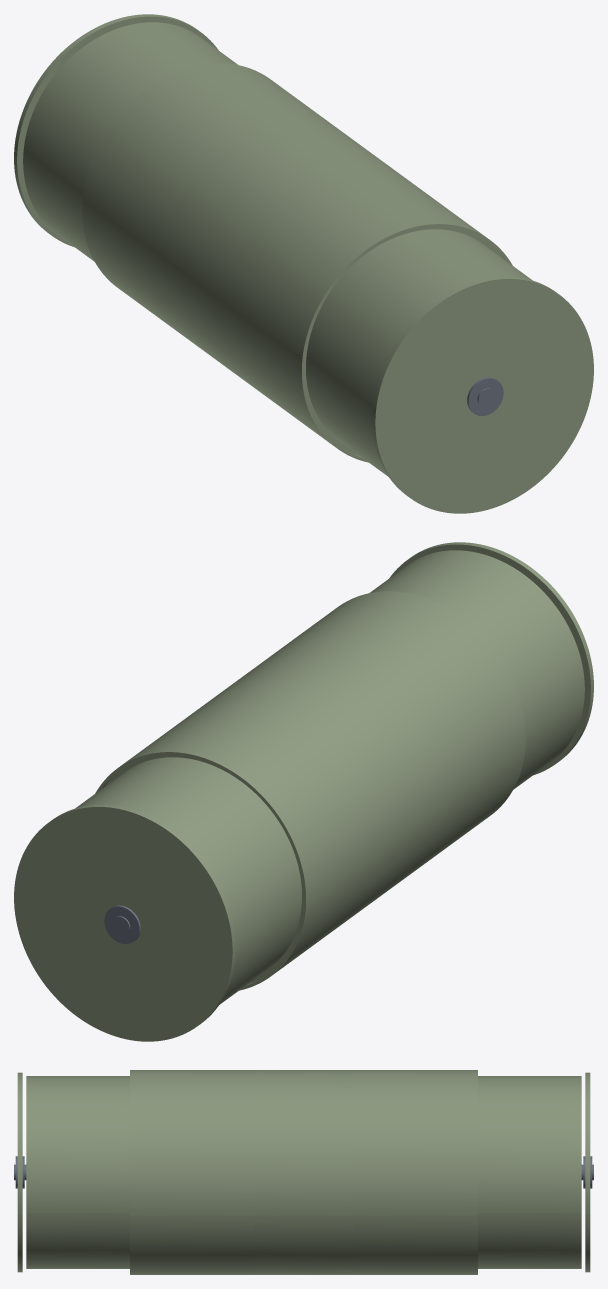
The model's file is tube-r150-n6-air6-wound-g0p5-6br-hub50.glb.
3 views of the same model, one above another, from view 1: azimuth 30°, elevation 25°; view 2: azimuth 150°, elevation 25°; view 3: azimuth 270°, elevation 25° (orthographic). The views are drawn at different scales.
Parts seen in each view (by area): view 1: bearings / B_spider_end - frame bearing hub [G10 bearing spi, side-B / B_stator_cage - insulating stator cage [G10 stator , side-A / A_stator_cage - insulating stator cage [G10 stator , rel-B / B_bridge_ring - bridge ring (counter-rotor), bridges, hub / hub_stator_cage - cage across the hub: A and B stator , rel-A / A_bridge_ring - bridge ring (counter-rotor), bridges, bearings / A_spider_end - frame bearing hub [G10 bearing spi, bearings / B_spider_Ca-reluctance - bearing hub, tied into t, bearings / B_bearing_end - bearing, end [6205-class deep-gro; view 2: bearings / A_spider_end - frame bearing hub [G10 bearing spi, side-A / A_stator_cage - insulating stator cage [G10 stator , side-B / B_stator_cage - insulating stator cage [G10 stator , rel-A / A_bridge_ring - bridge ring (counter-rotor), bridges, hub / hub_stator_cage - cage across the hub: A and B stator , rel-B / B_bridge_ring - bridge ring (counter-rotor), bridges, bearings / B_spider_end - frame bearing hub [G10 bearing spi, bearings / A_spider_Ca-reluctance - bearing hub, tied into t, bearings / A_bearing_end - bearing, end [6205-class deep-gro; view 3: side-A / A_stator_cage - insulating stator cage [G10 stator , side-B / B_stator_cage - insulating stator cage [G10 stator , hub / hub_stator_cage - cage across the hub: A and B stator , rel-A / A_bridge_ring - bridge ring (counter-rotor), bridges, rel-B / B_bridge_ring - bridge ring (counter-rotor), bridges, bearings / A_spider_end - frame bearing hub [G10 bearing spi, bearings / B_spider_end - frame bearing hub [G10 bearing spi.
Part boxes in pixels (x1,y1,x2,y2): bearings / B_spider_end - frame bearing hub [G10 bearing spi: (372,276,593,513); side-B / B_stator_cage - insulating stator cage [G10 stator : (223,166,512,462); side-A / A_stator_cage - insulating stator cage [G10 stator : (82,63,345,342); rel-B / B_bridge_ring - bridge ring (counter-rotor), bridges: (306,229,532,476); hub / hub_stator_cage - cage across the hub: A and B stator : (161,121,407,387); rel-A / A_bridge_ring - bridge ring (counter-rotor), bridges: (23,22,237,261); bearings / A_spider_end - frame bearing hub [G10 bearing spi: (14,14,217,247); bearings / B_spider_Ca-reluctance - bearing hub, tied into t: (304,227,503,455); bearings / B_bearing_end - bearing, end [6205-class deep-gro: (467,377,503,415); bearings / A_spider_end - frame bearing hub [G10 bearing spi: (14,804,235,1041); side-A / A_stator_cage - insulating stator cage [G10 stator : (95,694,384,990); side-B / B_stator_cage - insulating stator cage [G10 stator : (262,591,525,870); rel-A / A_bridge_ring - bridge ring (counter-rotor), bridges: (75,757,301,1004); hub / hub_stator_cage - cage across the hub: A and B stator : (200,649,446,915); rel-B / B_bridge_ring - bridge ring (counter-rotor), bridges: (370,550,584,789); bearings / B_spider_end - frame bearing hub [G10 bearing spi: (390,542,593,775); bearings / A_spider_Ca-reluctance - bearing hub, tied into t: (104,755,303,983); bearings / A_bearing_end - bearing, end [6205-class deep-gro: (104,905,140,943); side-A / A_stator_cage - insulating stator cage [G10 stator : (353,1070,477,1274); side-B / B_stator_cage - insulating stator cage [G10 stator : (130,1070,254,1274); hub / hub_stator_cage - cage across the hub: A and B stator : (254,1070,353,1274); rel-A / A_bridge_ring - bridge ring (counter-rotor), bridges: (478,1076,581,1268); rel-B / B_bridge_ring - bridge ring (counter-rotor), bridges: (26,1076,129,1268); bearings / A_spider_end - frame bearing hub [G10 bearing spi: (585,1072,590,1272); bearings / B_spider_end - frame bearing hub [G10 bearing spi: (17,1072,22,1272).
Size of the model in its own units: 0.332 by 0.332 by 0.94.
